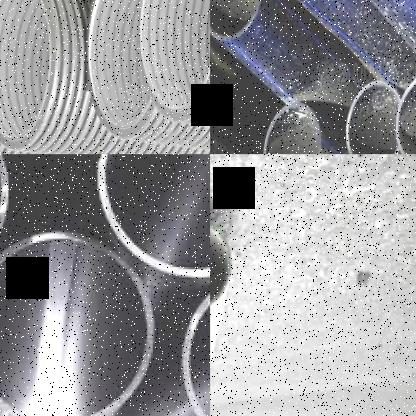pipe: (0, 229, 158, 416), (93, 154, 210, 279), (138, 0, 210, 113), (88, 0, 150, 131), (0, 0, 52, 143), (346, 80, 402, 154), (263, 104, 322, 154), (210, 0, 264, 41), (210, 218, 230, 312), (396, 73, 416, 154), (0, 154, 12, 286)
